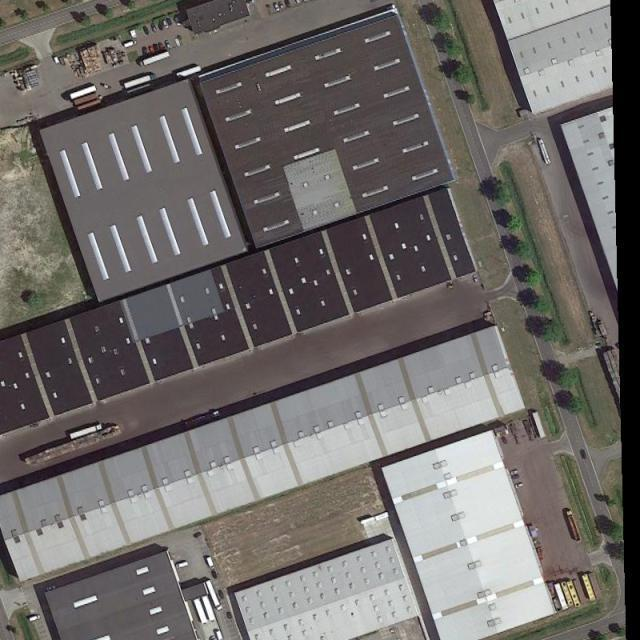vehicle: (535, 134, 555, 166), (69, 421, 102, 440), (206, 580, 224, 613), (173, 63, 204, 82), (138, 50, 172, 67), (70, 91, 103, 108), (124, 74, 158, 90), (193, 596, 210, 625), (70, 86, 100, 102), (74, 99, 104, 114), (202, 596, 218, 624), (120, 38, 140, 50), (206, 557, 215, 569), (28, 614, 41, 622), (218, 589, 226, 602), (176, 562, 189, 570), (141, 25, 150, 36), (173, 14, 181, 26), (158, 42, 166, 53), (150, 23, 158, 34), (216, 629, 224, 640), (514, 481, 525, 489), (166, 17, 174, 28), (278, 1, 286, 11), (148, 45, 155, 56), (162, 18, 169, 29), (153, 42, 159, 54), (273, 2, 280, 12), (164, 39, 170, 50), (510, 474, 518, 482), (194, 531, 202, 539), (211, 570, 218, 578), (284, 1, 291, 9), (157, 20, 162, 31), (510, 469, 519, 475), (142, 46, 146, 58), (294, 1, 302, 6), (210, 635, 216, 640), (302, 1, 308, 4)
